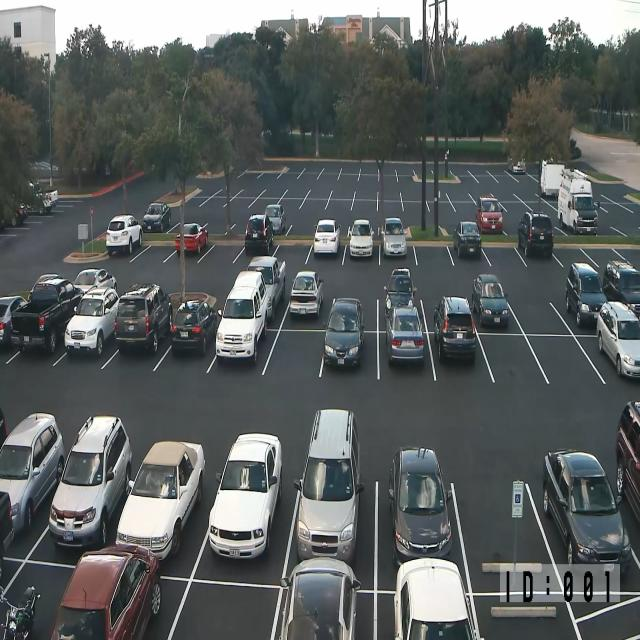car: (542, 448, 632, 574), (48, 414, 132, 548), (293, 407, 364, 564), (115, 440, 206, 560), (50, 543, 162, 639), (208, 432, 282, 560), (0, 411, 65, 536), (388, 446, 452, 566), (270, 556, 361, 640), (394, 556, 481, 640), (10, 273, 84, 354), (215, 270, 270, 362), (114, 282, 172, 353), (64, 286, 119, 356), (596, 300, 640, 378), (615, 399, 640, 524), (323, 296, 365, 368), (433, 295, 476, 363), (565, 261, 607, 327), (170, 298, 217, 356), (558, 170, 598, 236), (247, 255, 286, 322), (384, 304, 425, 366), (0, 584, 41, 639), (602, 259, 640, 317), (472, 274, 509, 327), (518, 210, 554, 258), (289, 270, 323, 318), (383, 267, 417, 314), (106, 214, 142, 255), (0, 295, 27, 346), (0, 490, 15, 577), (74, 268, 118, 296), (244, 213, 273, 254), (475, 195, 503, 234), (174, 222, 208, 254), (381, 216, 407, 257), (454, 220, 482, 258), (348, 218, 374, 258), (313, 218, 341, 255), (142, 202, 171, 232), (264, 203, 286, 235), (12, 202, 28, 225), (30, 160, 58, 172), (0, 407, 7, 452), (44, 188, 58, 206), (28, 180, 42, 197), (512, 158, 526, 174)
